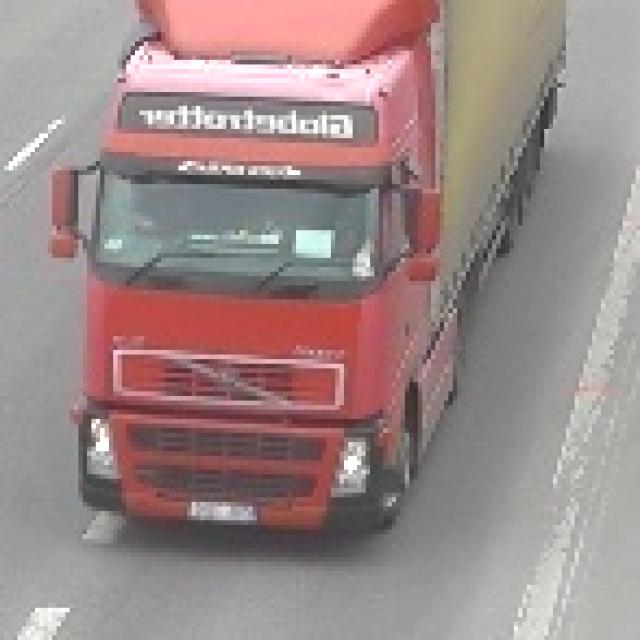TRUCK: (52, 0, 562, 553)
